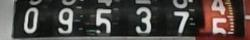digits: (134, 6, 151, 32), (57, 7, 74, 33), (95, 8, 112, 32), (172, 10, 190, 32), (24, 7, 38, 32), (210, 0, 226, 14)
